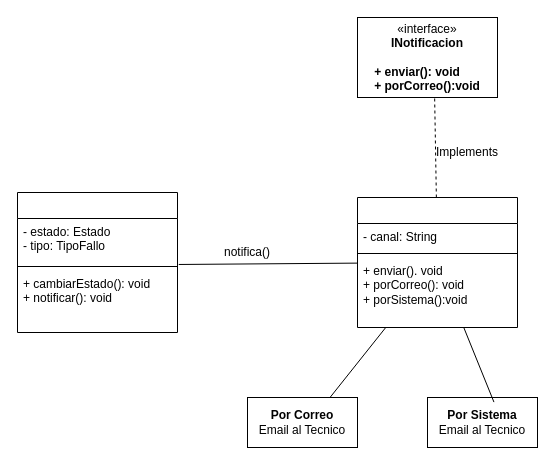
This 555x465 diagram has some shape labels left out. Here are the shapes that lost their labels. From the top down, the box of each, then its label:
(16, 192, 178, 332): Ticket
(356, 196, 518, 328): Notificador
